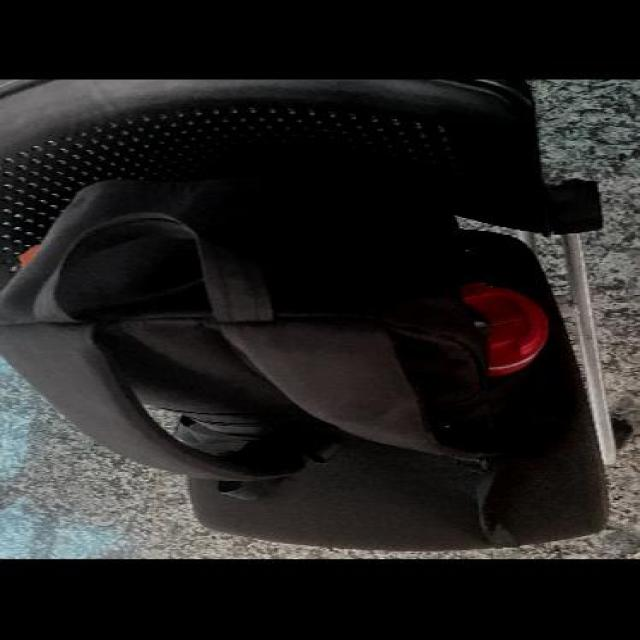canta: (0, 174, 614, 552)
